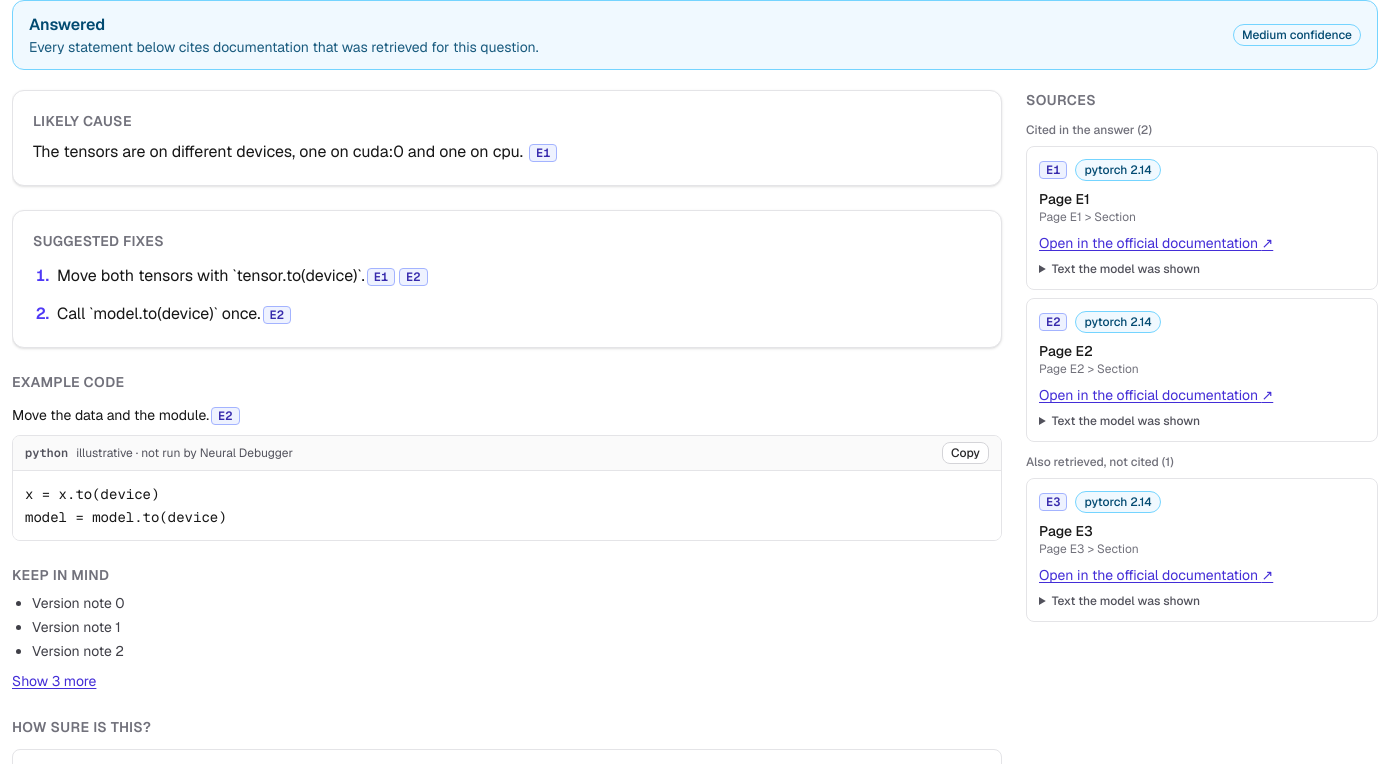
Test: AnswerView › collapses long caveat lists
Check: the text "Version note 5" is not shown
Click the button "Show 3 more": {"x": 54, "y": 681} [12,671,96,691]
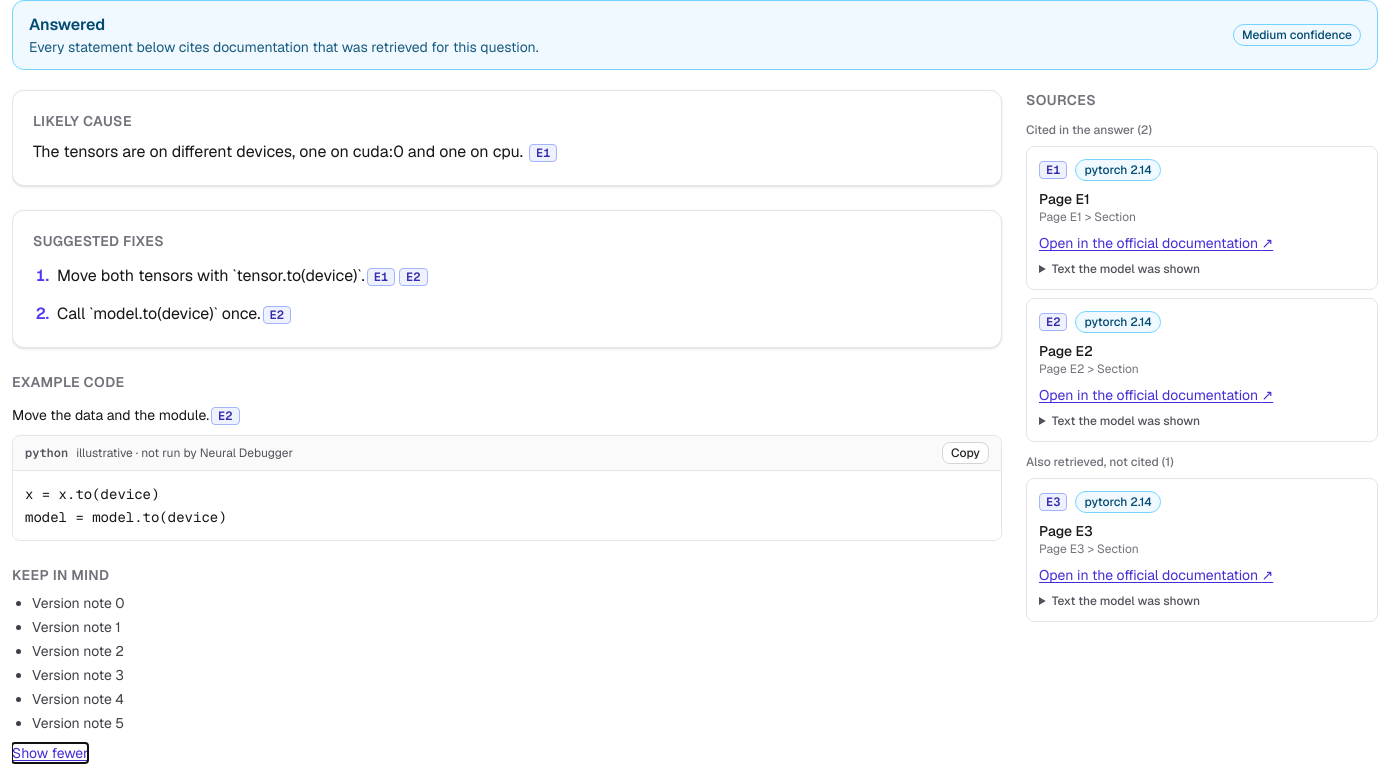
Check: the list item "Version note 5" is shown, box [32,714,124,732]
